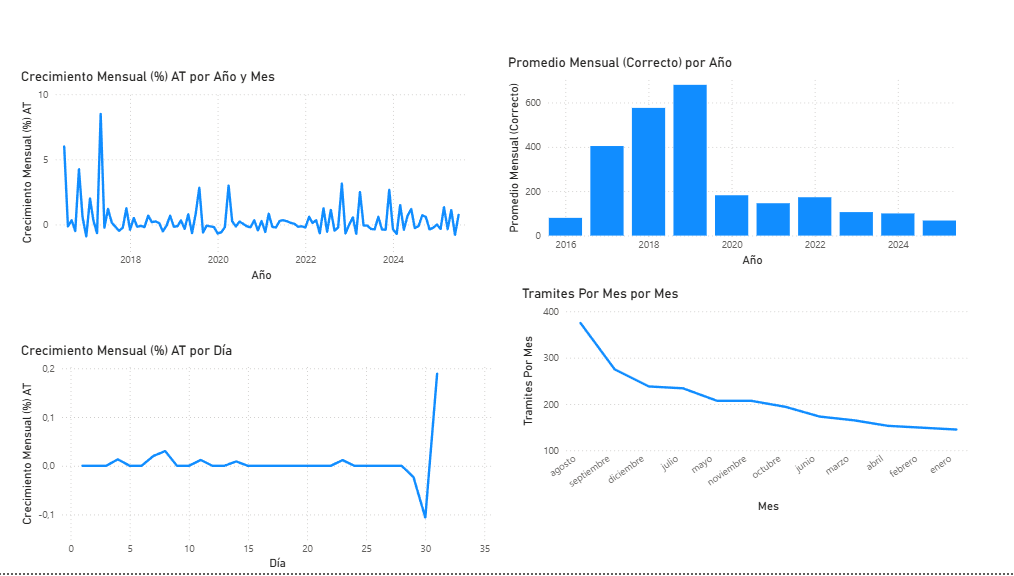

The page's visual inventory and layout, read from the dashboard file:
{"tool":"powerbi","page":{"name":"Analisis de tendencia","canvas":[1280,720],"ordinal":1},"visuals":[{"type":"lineChart","fields":{"Y":["Calendario.Crecimiento Mensual (%) AT"],"Category":["Calendario.Date.Variación.Jerarquía de fechas.Año","Calendario.Date.Variación.Jerarquía de fechas.Mes"]},"box":[23.8,88.8,570,271.2],"z":0},{"type":"lineChart","fields":{"Y":["Calendario.Crecimiento Mensual (%) AT"],"Category":["Calendario.Date.Variación.Jerarquía de fechas.Mes","Calendario.Date.Variación.Jerarquía de fechas.Día"]},"box":[23.7,431,599.3,289.1],"z":1000},{"type":"lineStackedColumnComboChart","fields":{"Category":["Calendario.Año"],"Y":["Calendario.Promedio Mensual (Correcto)"]},"box":[632.5,71.2,570,270],"z":2000},{"type":"lineChart","fields":{"Y":["Calendario.Tramites Por Mes"],"Category":["Calendario.Mes"]},"box":[650,360,570,288.8],"z":3000}]}

Visuals, with their boxes in screenshot pixels (x1, y1, x2, y2), scaled from the page's 1280x720 canvas onto the 1014x576 screenshot:
lineChart - Calendario.Crecimiento Mensual (%) AT x Calendario.Date.Variación.Jerarquía de fechas.Año: [x1=19, y1=71, x2=470, y2=288]
lineChart - Calendario.Crecimiento Mensual (%) AT x Calendario.Date.Variación.Jerarquía de fechas.Mes: [x1=19, y1=345, x2=494, y2=575]
lineStackedColumnComboChart - Calendario.Año x Calendario.Promedio Mensual (Correcto): [x1=501, y1=57, x2=953, y2=273]
lineChart - Calendario.Tramites Por Mes x Calendario.Mes: [x1=515, y1=288, x2=966, y2=519]
